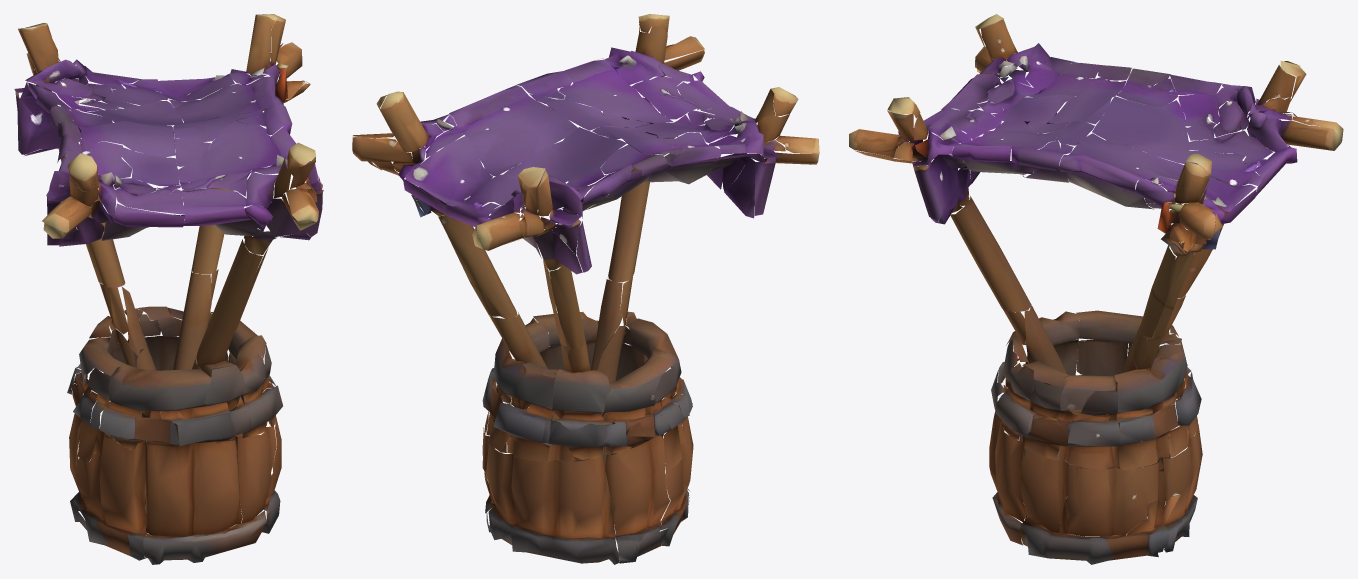
File: coletor.glb
3 renders of one model, left to right at view 1: azimuth 30°, elevation 25°; view 2: azimuth 150°, elevation 25°; view 3: azimuth 270°, elevation 25°, orthographic.
Parts seen in each view (by area): view 1: tripo_node_fcf5f5d6-a38d-4f1e-b100-59b7995c9bb4; view 2: tripo_node_fcf5f5d6-a38d-4f1e-b100-59b7995c9bb4; view 3: tripo_node_fcf5f5d6-a38d-4f1e-b100-59b7995c9bb4.
Part boxes in pixels (<box>): tripo_node_fcf5f5d6-a38d-4f1e-b100-59b7995c9bb4: <box>14,14,323,564</box>; tripo_node_fcf5f5d6-a38d-4f1e-b100-59b7995c9bb4: <box>352,14,819,564</box>; tripo_node_fcf5f5d6-a38d-4f1e-b100-59b7995c9bb4: <box>849,14,1343,564</box>.
Bounding box in the file's own units: 0.8481 × 0.983 × 0.9984.
Materials: 1 (1 with a texture image).
